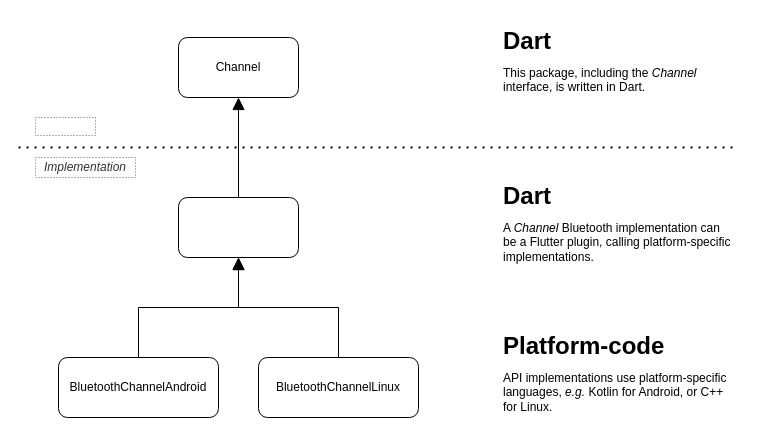
Image size: 757x439. Some labels were removed from this diagram. The box of each missing label's shape, as (x1, y1, x2, y2) in pixels:
BluetoothChannel: (178, 196, 298, 258)
Package: (34, 116, 96, 136)
